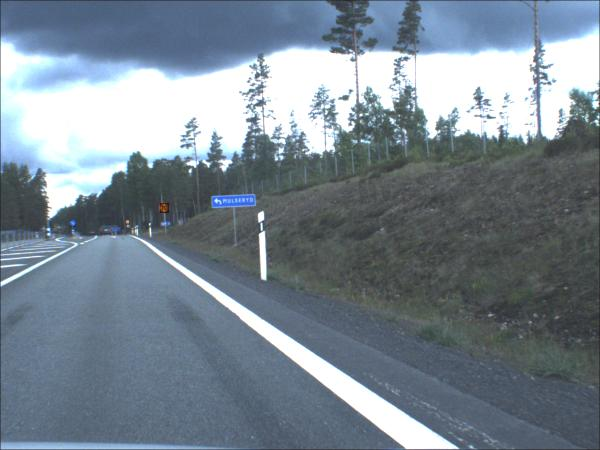70_SIGN: (161, 204, 171, 215), (127, 222, 131, 226)
PASS_RIGHT_SIDE: (71, 221, 78, 229)
PRIORITY_ROAD: (128, 226, 132, 230)
